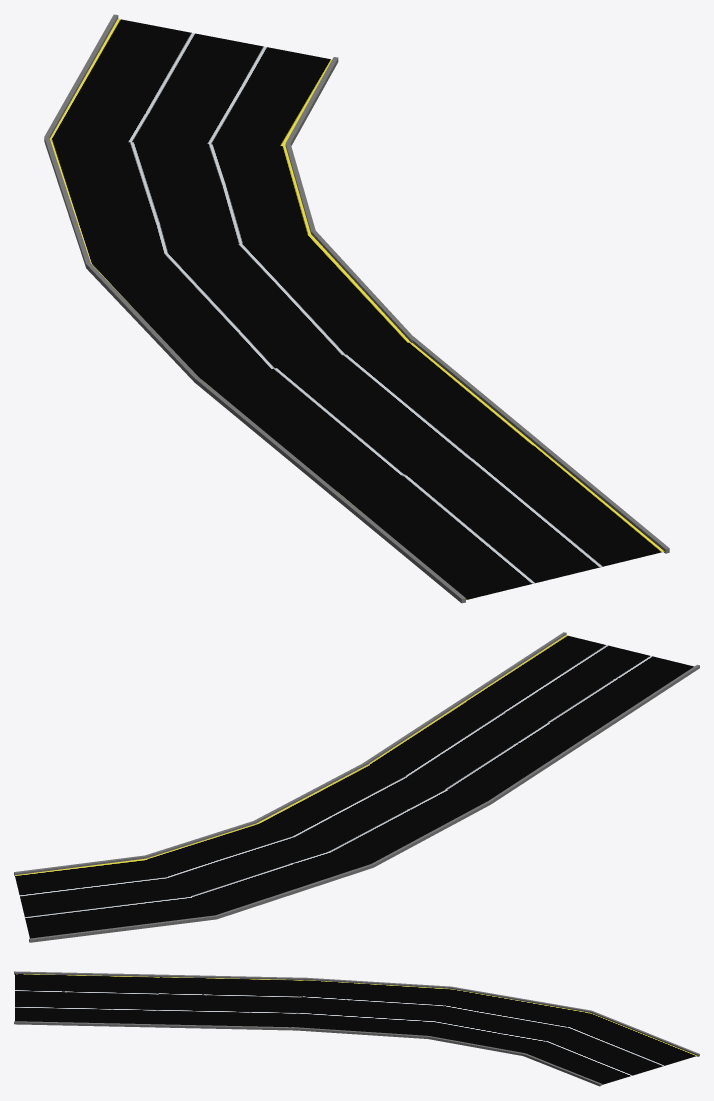
The model's file is TrackHalfRight.fbx.
3 renders of one model, top to bottom at view 1: azimuth 30°, elevation 25°; view 2: azimuth 150°, elevation 25°; view 3: azimuth 270°, elevation 25°, orthographic. The views are drawn at different scales.
Visible parts, largest first — view 1: Pavement.002; view 2: Pavement.002; view 3: Pavement.002.
Part boxes in pixels (left/top/right/bottom): Pavement.002: left=44, top=14, right=669, bottom=603; Pavement.002: left=14, top=632, right=699, bottom=942; Pavement.002: left=14, top=971, right=699, bottom=1086.
Bounding box in the file's own units: 23593 × 9185 × 83.66.
2 materials, 1 textured.
